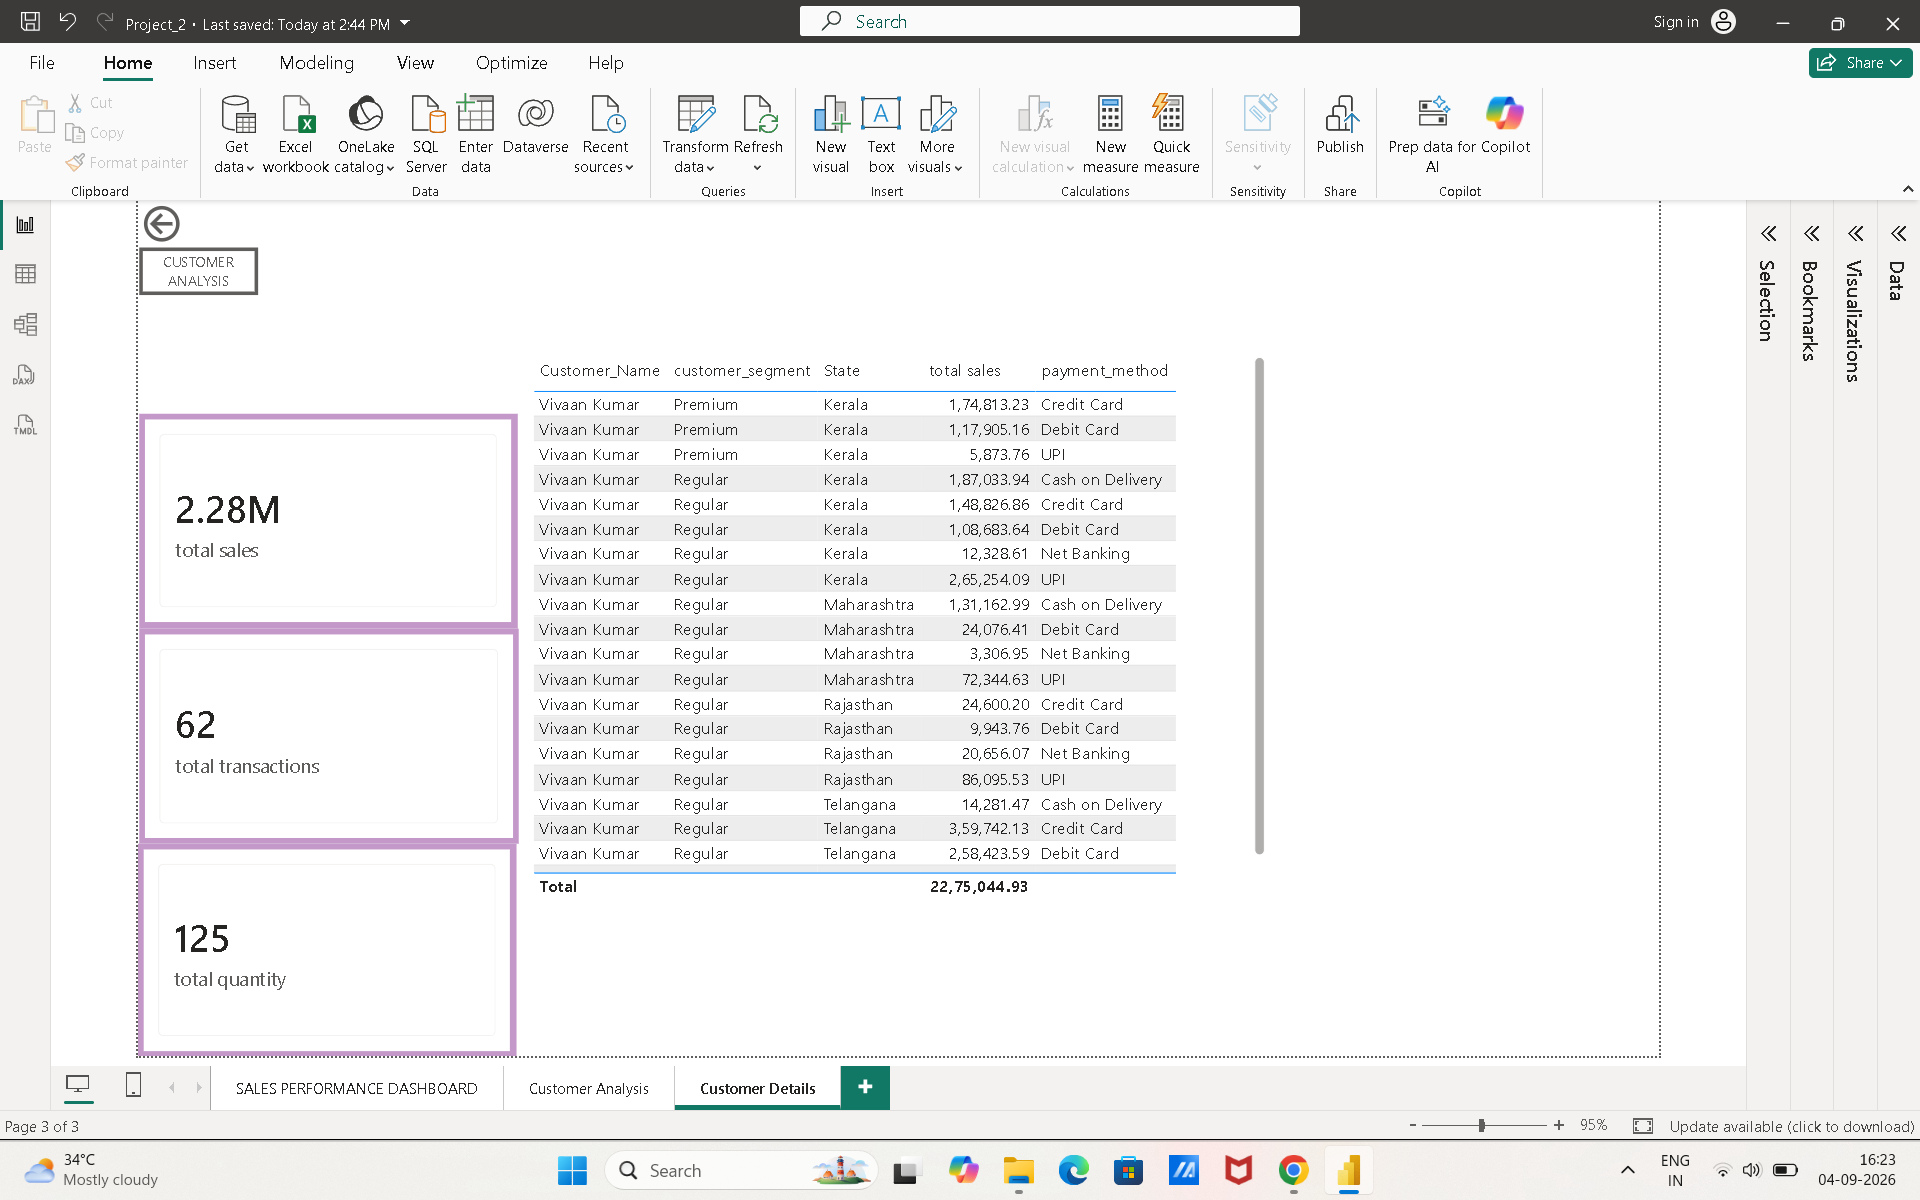

What the dashboard file says about the page in this screenshot:
{"tool":"powerbi","page":{"name":"Customer Details","canvas":[1280,720],"ordinal":2},"visuals":[{"type":"actionButton","box":[0,0,100,40],"z":0},{"type":"cardVisual","fields":{"Data":["project2 fact_sales.total sales"]},"box":[0,96.7,318.6,180.9],"z":1000},{"type":"cardVisual","fields":{"Data":["project2 fact_sales.total transactions"]},"box":[0,299.6,319,181],"z":2000},{"type":"cardVisual","fields":{"Data":["project2 fact_sales.total quantity"]},"box":[0,502.6,318.6,179.5],"z":3000},{"type":"tableEx","fields":{"Values":["project2 dim_customer.Customer_Name","project2 dim_customer.customer_segment","project2 dim_customer.State","project2 fact_sales.total sales","project2 fact_sales.payment_method"]},"box":[326.6,127.3,626.1,464.7],"z":4000},{"type":"actionButton","box":[1.2,39.7,100,40],"z":5000}]}

Visuals, with their boxes on the page's 1280x720 design canvas (x1, y1, x2, y2). These are canvas units, not pixel positions in the 1920x1200 screenshot, which may show the page scaled, cropped or inside an application window:
actionButton: (left=0, top=0, right=100, bottom=40)
cardVisual - project2 fact_sales.total sales: (left=0, top=97, right=319, bottom=278)
cardVisual - project2 fact_sales.total transactions: (left=0, top=300, right=319, bottom=481)
cardVisual - project2 fact_sales.total quantity: (left=0, top=503, right=319, bottom=682)
tableEx - project2 dim_customer.Customer_Name x project2 dim_customer.customer_segment: (left=327, top=127, right=953, bottom=592)
actionButton: (left=1, top=40, right=101, bottom=80)
